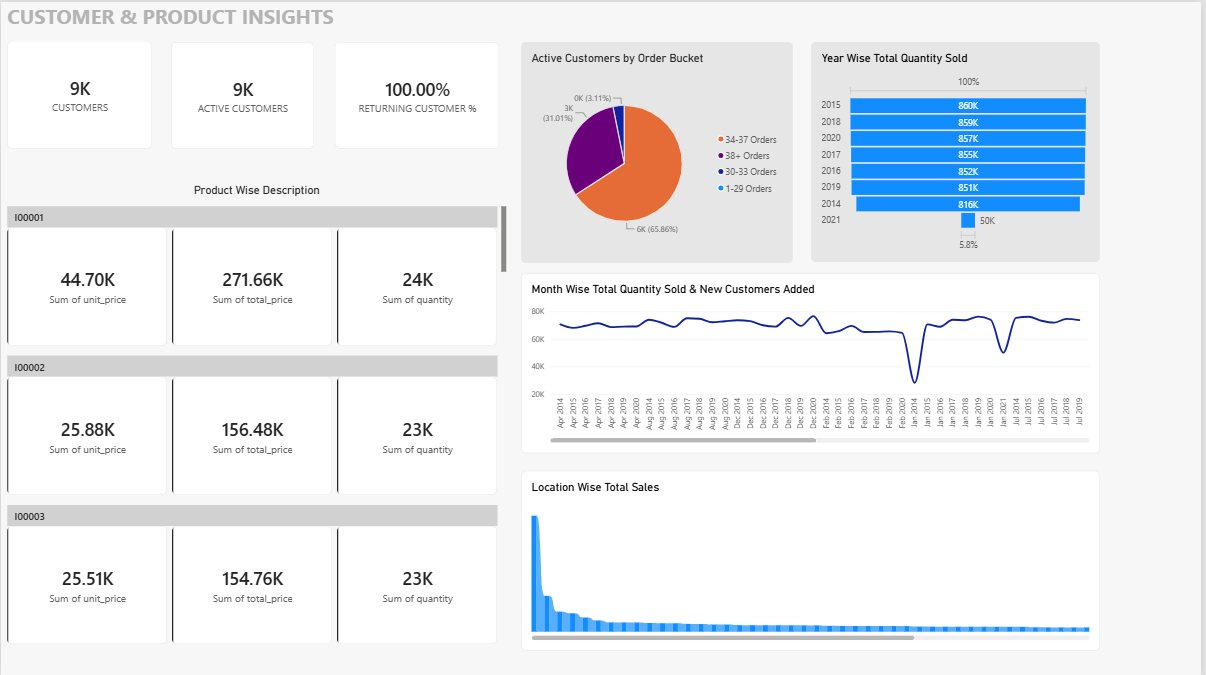

The page's visual inventory and layout, read from the dashboard file:
{"tool":"powerbi","page":{"name":"Customer & Product Insights","canvas":[1920,1080],"ordinal":1},"visuals":[{"type":"textbox","box":[10.6,0,557.4,61.7],"z":0},{"type":"cardVisual","fields":{"Data":["DAX Measures.CUSTOMERS"]},"box":[10,61.7,231.7,173.3],"z":1},{"type":"cardVisual","fields":{"Data":["DAX Measures.RETURNING CUSTOMER %"]},"box":[533.3,63.3,263.3,171.7],"z":2},{"type":"cardVisual","fields":{"Data":["DAX Measures.ACTIVE CUSTOMERS"]},"box":[271.7,63.3,228.3,171.7],"z":3},{"type":"pieChart","title":"Active Customers by Order Bucket","fields":{"Category":["customer_dim.Order_Bucket"],"Y":["DAX Measures.ACTIVE CUSTOMERS"]},"box":[831.7,63.3,435,353.3],"z":4},{"type":"funnel","title":"Year Wise Total Quantity Sold","fields":{"Category":["time_dim.year"],"Y":["DAX Measures.TOTAL_QUANTITY"]},"box":[1296,64,462,352],"z":5},{"type":"cardVisual","title":"Product Wise Description","fields":{"Data":["Sum(fact_table.unit_price)","Sum(fact_table.total_price)","Sum(fact_table.quantity)"],"Rows":["fact_table.item_key"]},"box":[10,290,798,748],"z":6},{"type":"lineChart","title":"Month Wise Total Quantity Sold & New Customers Added","fields":{"Category":["time_dim.month_year"],"Y":["DAX Measures.MONTHLY NEW CUSTOMERS","DAX Measures.TOTAL_QUANTITY"]},"box":[832,434,926.7,288.3],"z":7},{"type":"ribbonChart","title":"Location Wise Total Sales","fields":{"Category":["store_dim.Store_location"],"Y":["DAX Measures.TOTAL_SALES"]},"box":[832,750,926.7,288.3],"z":8}]}

Visuals, with their boxes in screenshot pixels (x1, y1, x2, y2), scaled from the page's 1920x1080 canvas onto the 1206x675 screenshot:
textbox: (x1=7, y1=0, x2=357, y2=39)
cardVisual - DAX Measures.CUSTOMERS: (x1=6, y1=39, x2=152, y2=147)
cardVisual - DAX Measures.RETURNING CUSTOMER %: (x1=335, y1=40, x2=500, y2=147)
cardVisual - DAX Measures.ACTIVE CUSTOMERS: (x1=171, y1=40, x2=314, y2=147)
"Active Customers by Order Bucket" pieChart: (x1=522, y1=40, x2=796, y2=260)
"Year Wise Total Quantity Sold" funnel: (x1=814, y1=40, x2=1104, y2=260)
"Product Wise Description" cardVisual: (x1=6, y1=181, x2=508, y2=649)
"Month Wise Total Quantity Sold & New Customers Added" lineChart: (x1=523, y1=271, x2=1105, y2=451)
"Location Wise Total Sales" ribbonChart: (x1=523, y1=469, x2=1105, y2=649)
